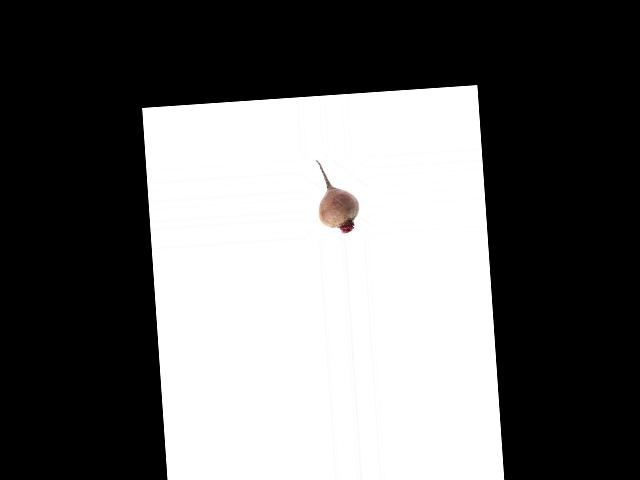beet: (315, 157, 361, 234)
